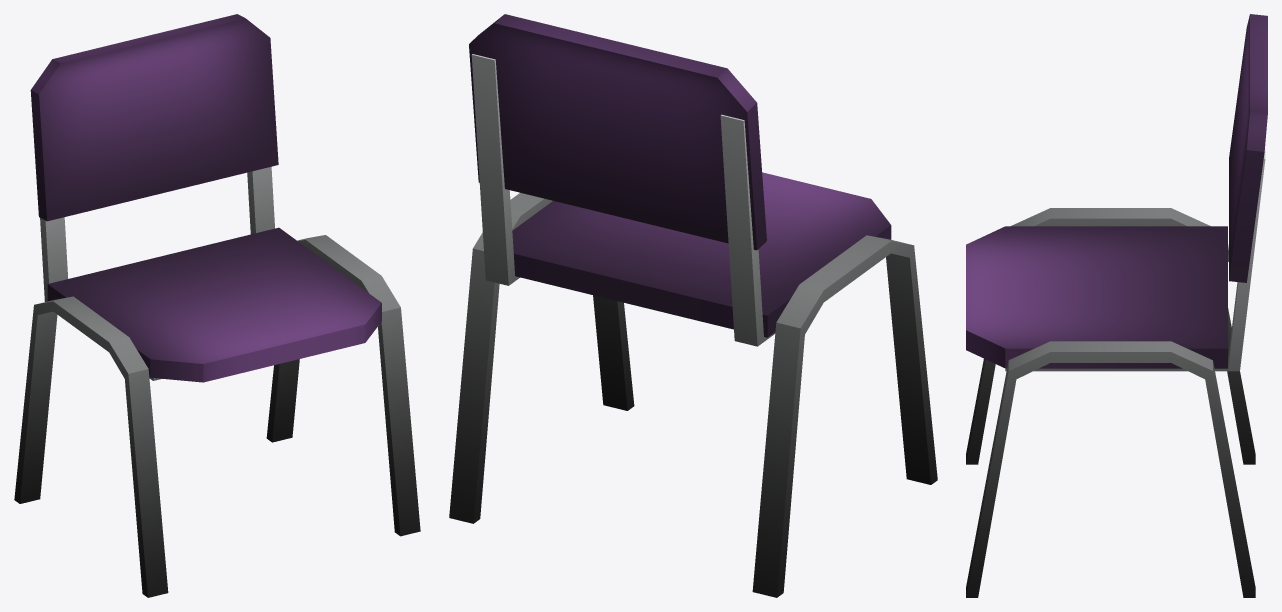
File: Chair_Conference_Purple.fbx
3 views of the same model, side by side, from view 1: azimuth 30°, elevation 25°; view 2: azimuth 150°, elevation 25°; view 3: azimuth 270°, elevation 25° (orthographic). The views are drawn at different scales.
Visible parts, largest first — view 1: Chair_Conference_Purple; view 2: Chair_Conference_Purple; view 3: Chair_Conference_Purple.
Part boxes in pixels (bbox=[...]): Chair_Conference_Purple: bbox=[14, 14, 420, 597]; Chair_Conference_Purple: bbox=[449, 14, 937, 597]; Chair_Conference_Purple: bbox=[966, 14, 1267, 597].
Size of the model in its own units: 54.47 by 81.7 by 48.28.
